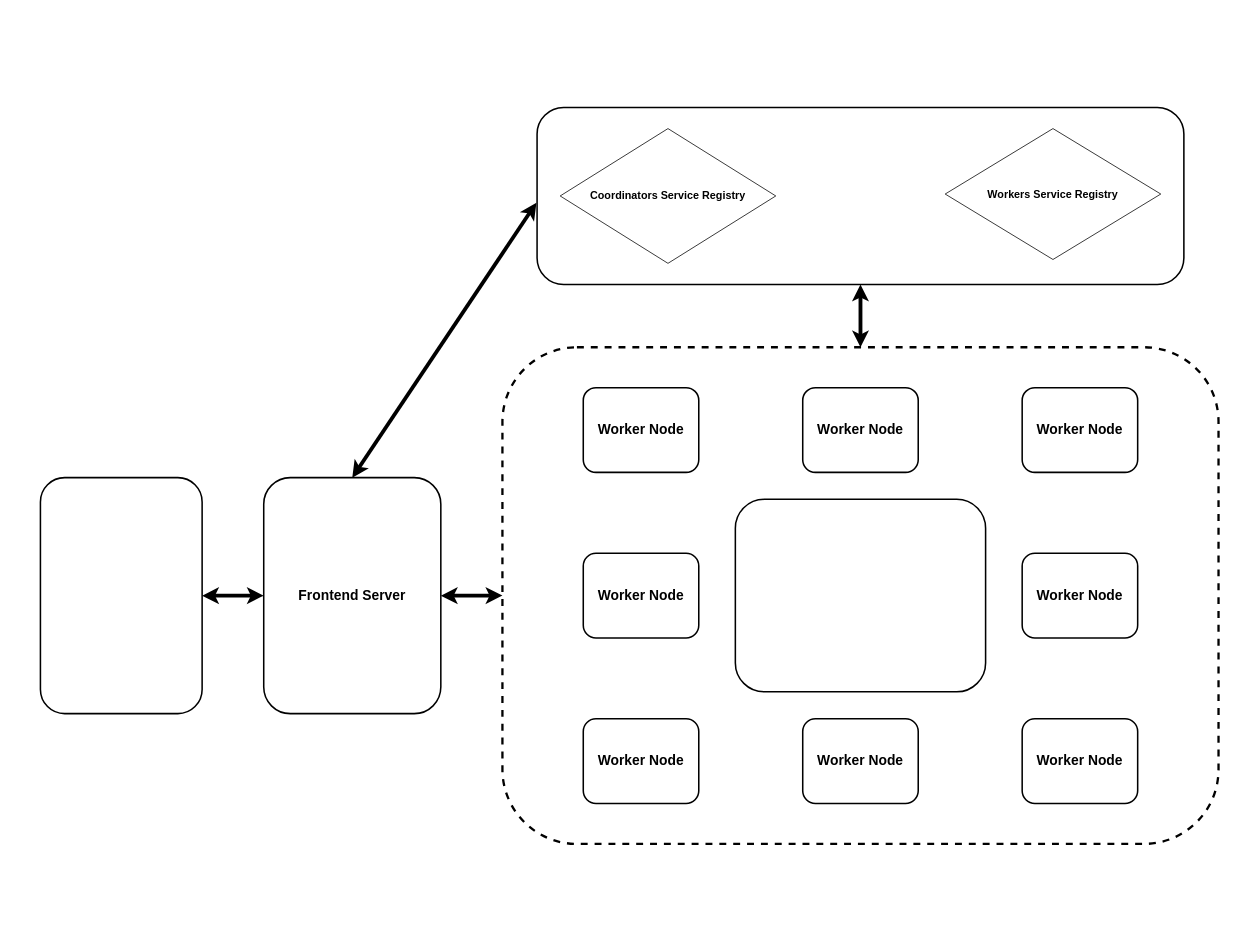
The diagram is 1258 pixels wide and 950 high, and some of its shapes have lost their labels. The shapes that lost their labels are listed below. From the top down, each one's box as (x1, y1, x2, y2) in pixels, then its label:
(536, 106, 1184, 285): ZooKeeper
(39, 476, 203, 714): User's Browser
(734, 498, 986, 692): Search Coordinator / Leader
